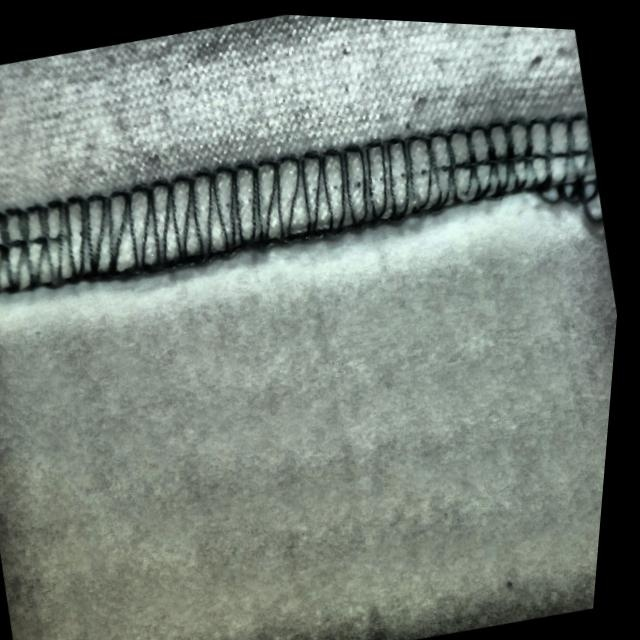Stitch: (0, 132, 245, 354), (508, 95, 620, 241)
